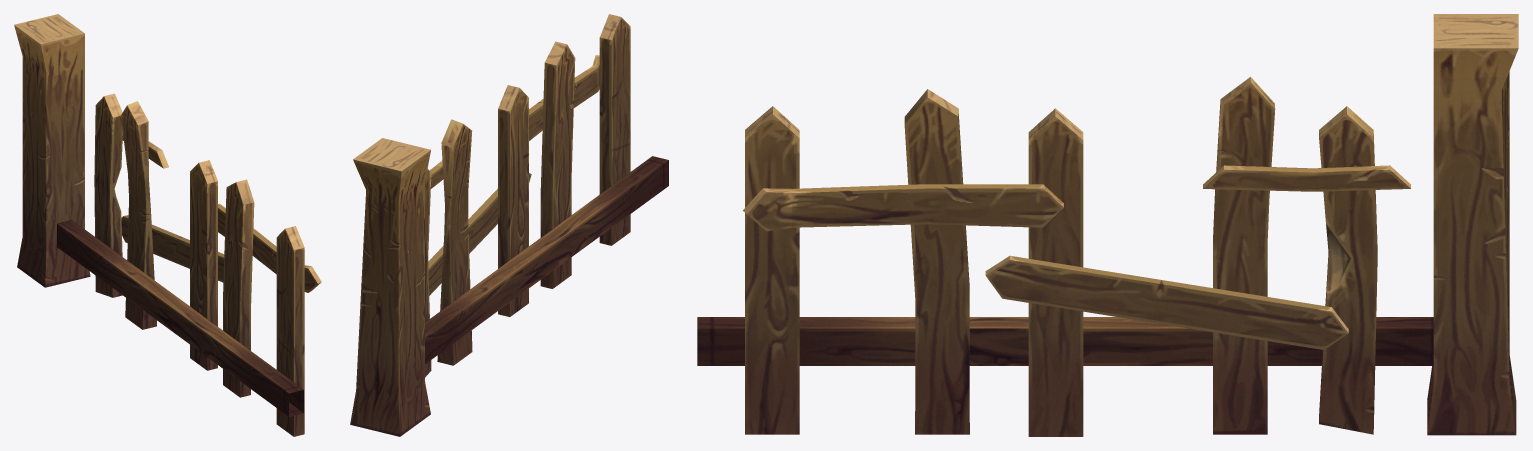
The model's file is Fencing.fbx.
The picture shows the model from 3 angles, left to right: view 1: azimuth 30°, elevation 25°; view 2: azimuth 150°, elevation 25°; view 3: azimuth 270°, elevation 25°; orthographic projection. The views are drawn at different scales.
Parts seen in each view (by area): view 1: SM_Fence_001; view 2: SM_Fence_001; view 3: SM_Fence_001.
Boxes of the visible parts, bbox=[...] form: SM_Fence_001: bbox=[14, 14, 321, 436]; SM_Fence_001: bbox=[350, 14, 668, 436]; SM_Fence_001: bbox=[697, 14, 1518, 436].
Size of the model in its own units: 1.75 by 6.29 by 12.18.
